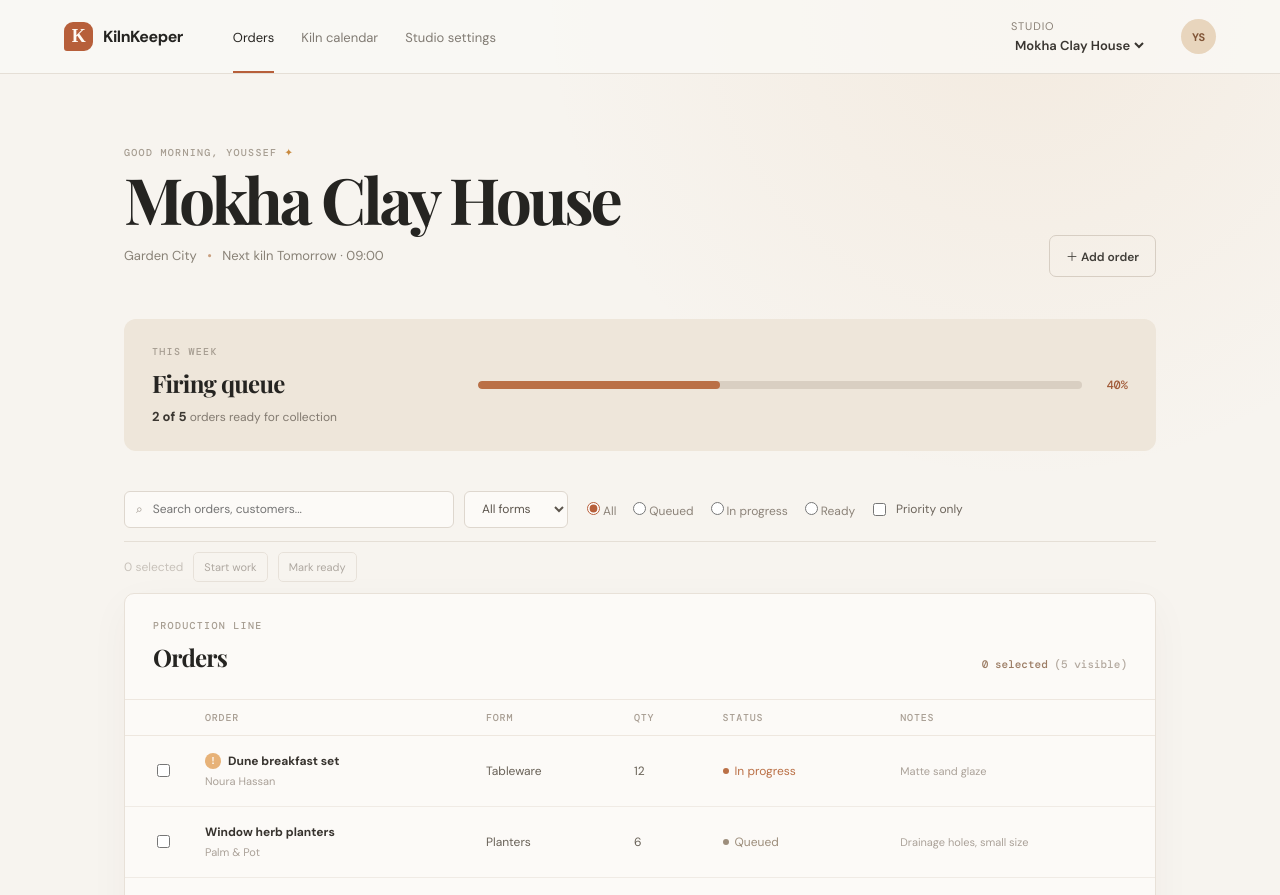
Test: KilnKeeper › keeps a selected order selected when filters hide it
Click the checkbox named "Select Dune breakfast set". click: (164, 770)
box: [157, 764, 170, 777]
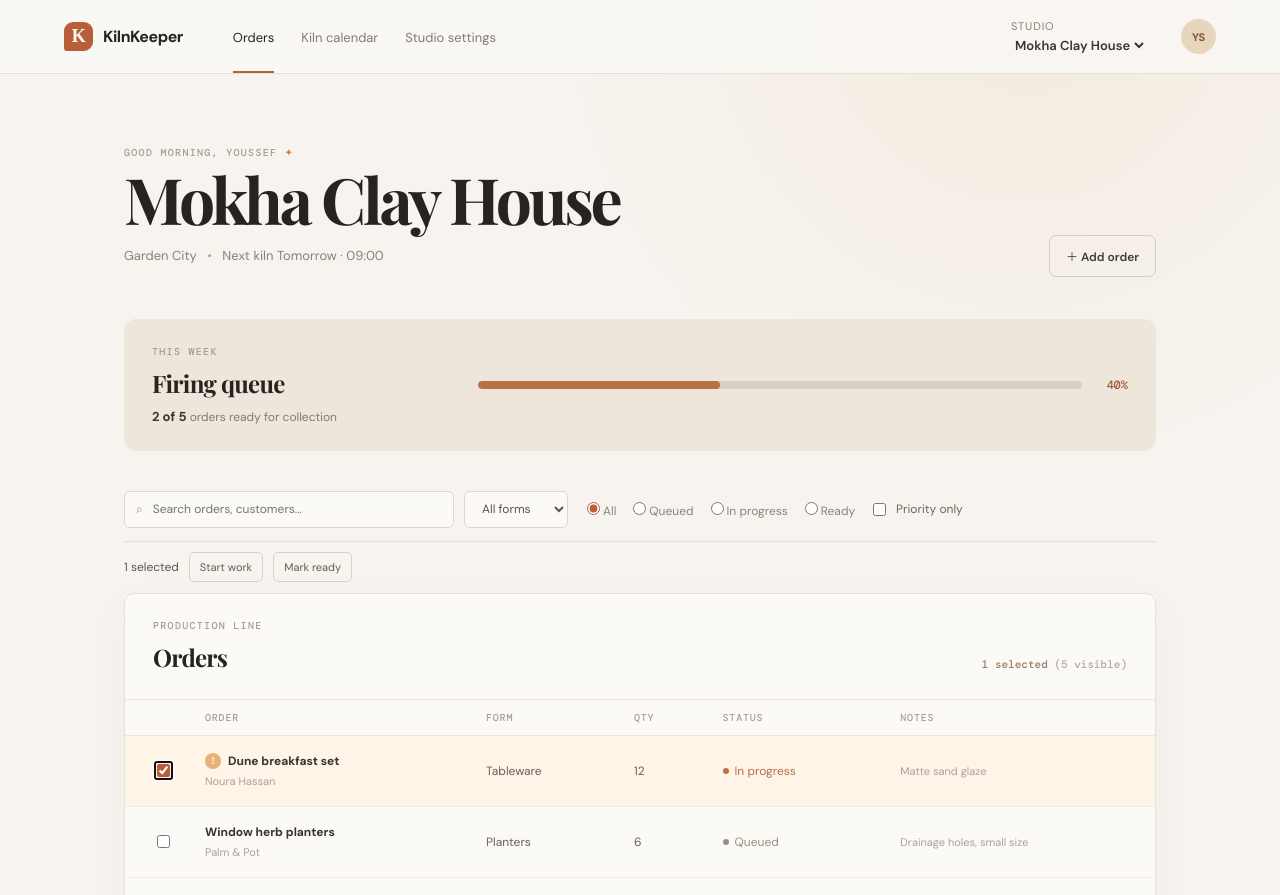
Click the radio button labelled "Ready". click: (811, 509)
box: [805, 502, 818, 515]
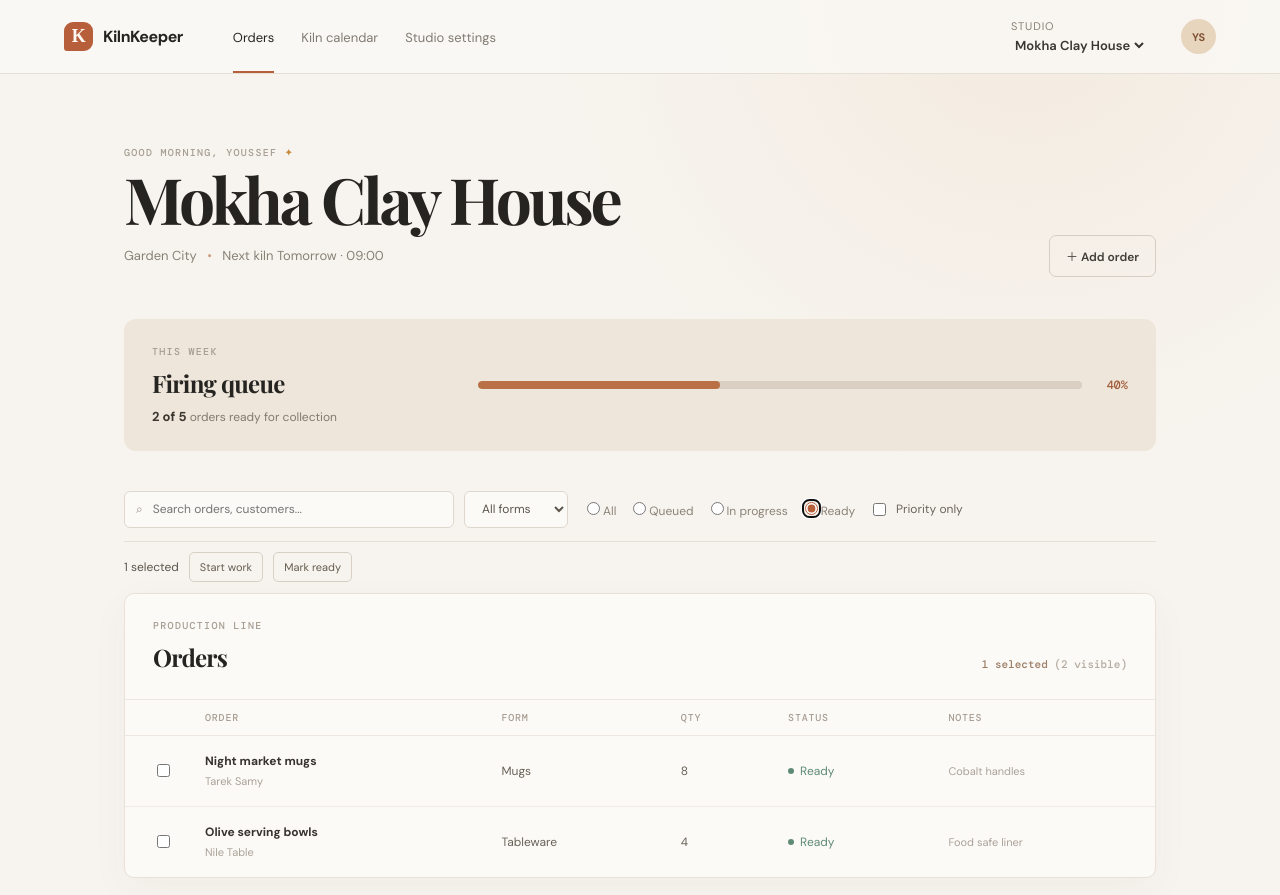
Expected: the element showing "1 selected (2 visible)" is shown, [982, 657, 1127, 671]
Click the radio button labelled "All". click: (594, 509)
box: [587, 502, 600, 515]
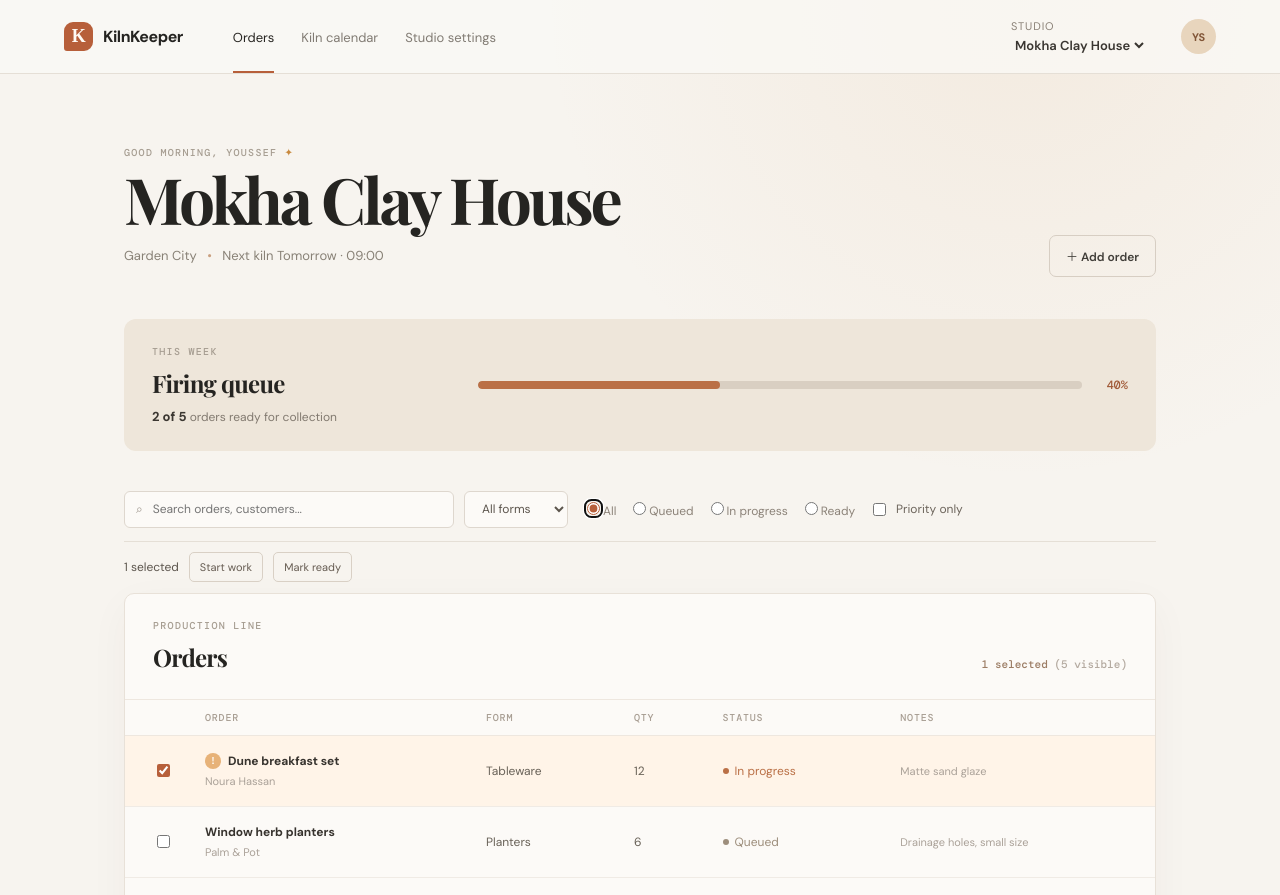
Expected: the checkbox named "Select Dune breakfast set" is checked, [157, 764, 170, 777]
